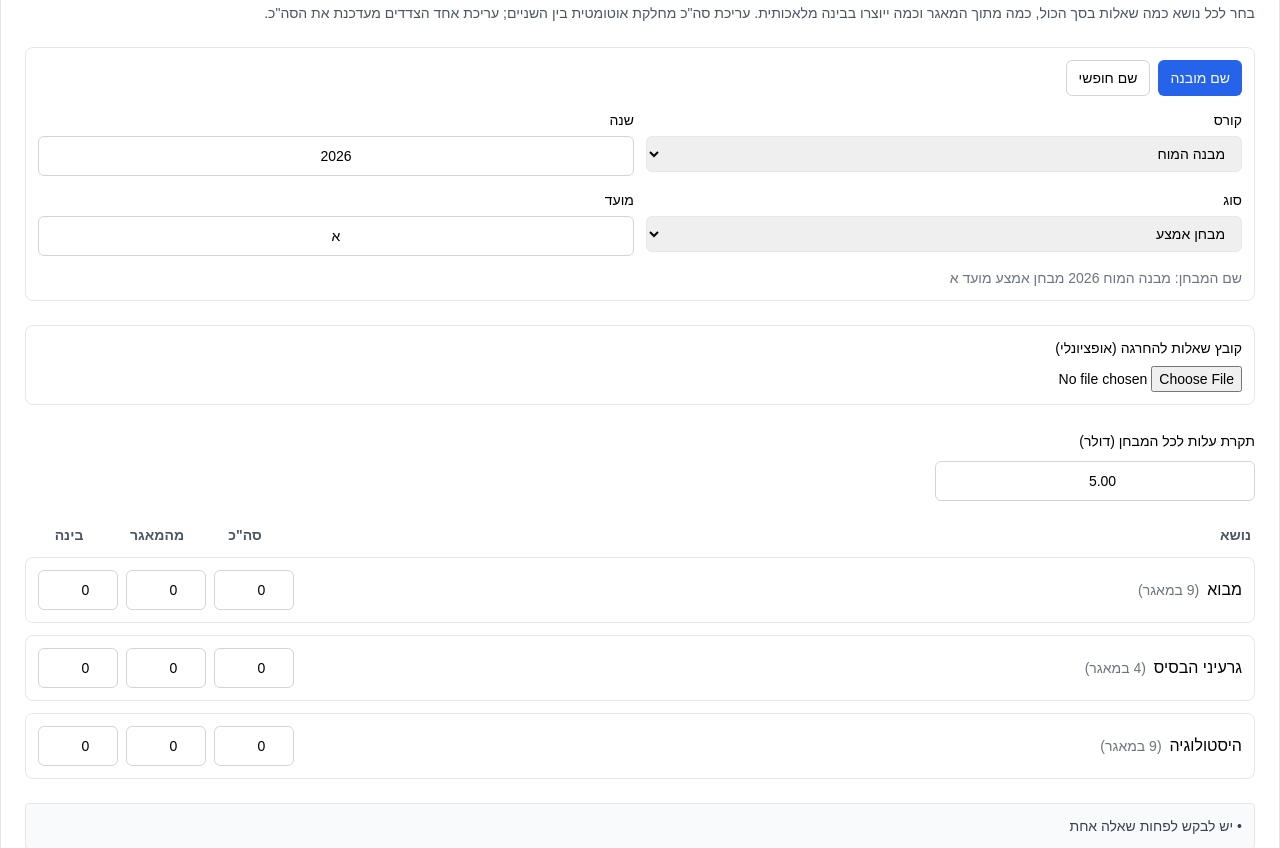
Test: start / persistence / polling › polls a running job to completion and shows accepted partials immediately
Replace the text in the number field named "סה\"כ שאלות עבור מבוא" with "2" at (254, 590), box x1=214 y1=570 x2=294 y2=610
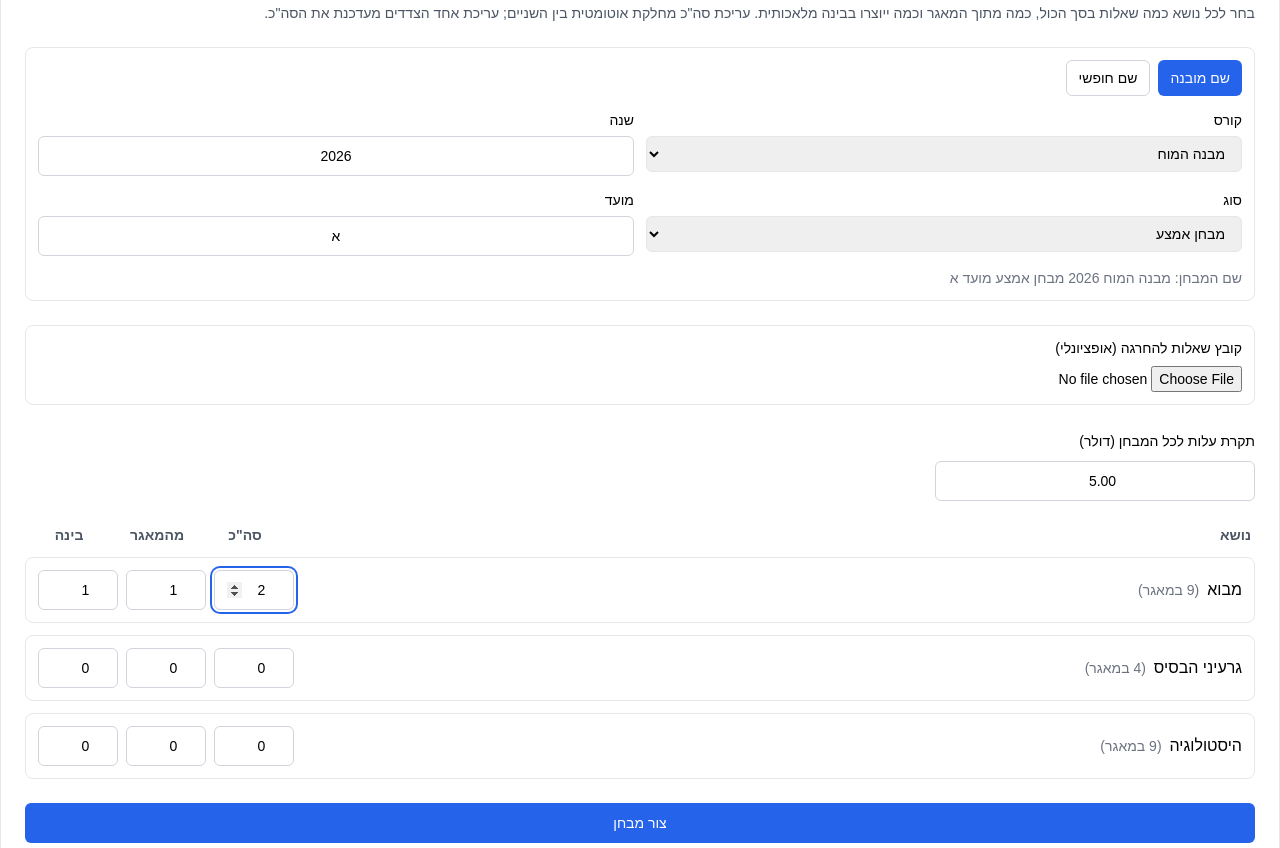
Click the button "צור מבחן" at (640, 823), box x1=25 y1=803 x2=1255 y2=843
(page scrolled)
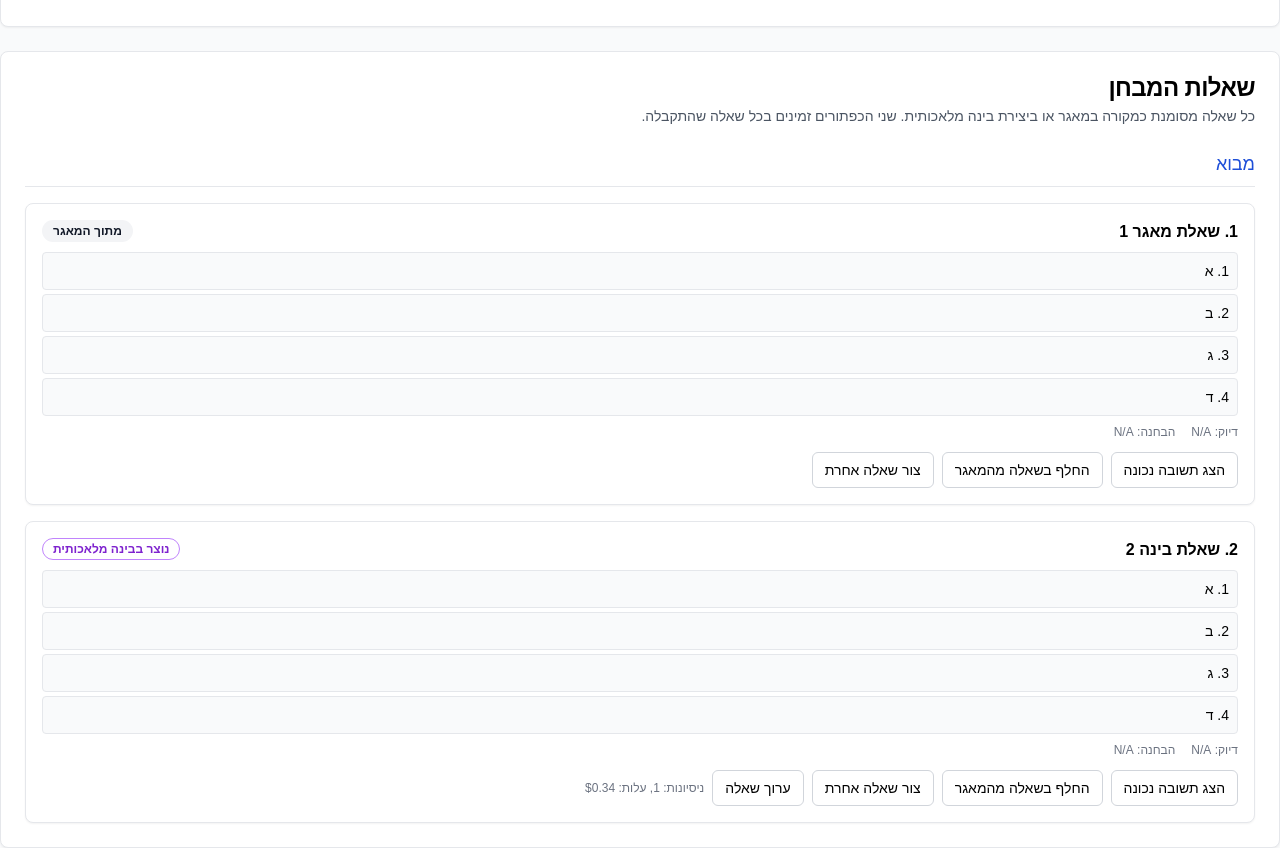
Check: the text "1. שאלת מאגר 1" is shown, box x1=1119 y1=223 x2=1238 y2=240
Check: the text "2. שאלת בינה 2" is shown, box x1=1126 y1=541 x2=1238 y2=558
